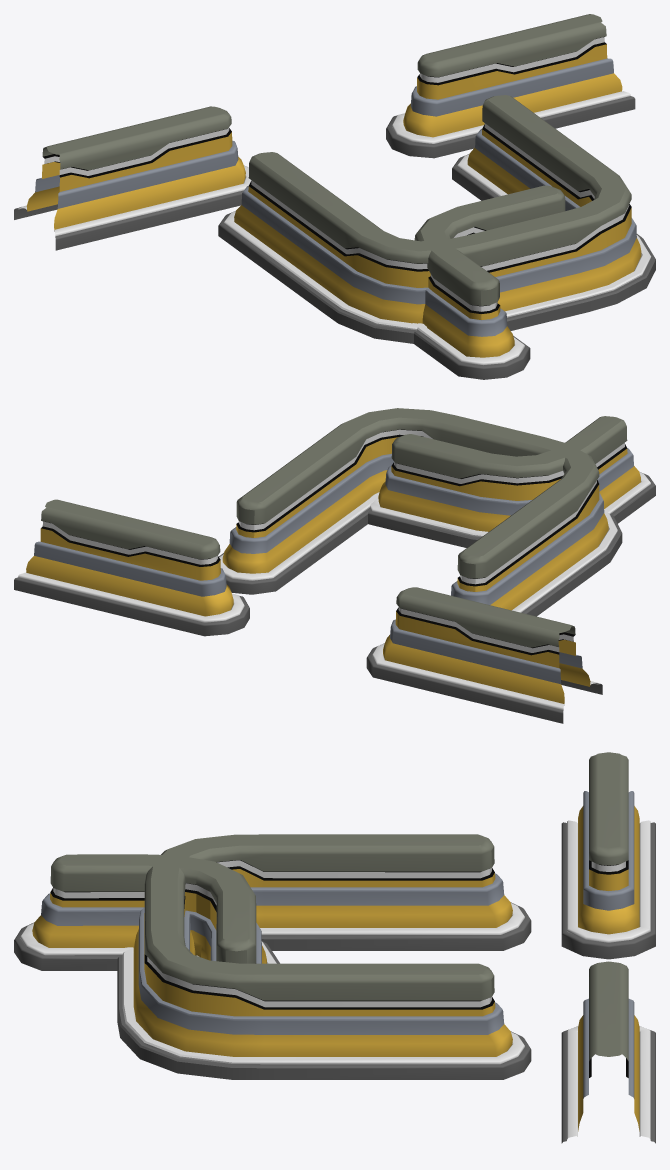
File: Level2_Small_walls.fbx
The picture shows the model from 3 angles, top to bottom: view 1: azimuth 30°, elevation 25°; view 2: azimuth 150°, elevation 25°; view 3: azimuth 270°, elevation 25°; orthographic projection. The views are drawn at different scales.
Visible parts, largest first — view 1: Small_wall_L1, Small_wallv2_, Small_wallv2_1, Small_wall_L; view 2: Small_wall_L1, Small_wallv2_1, Small_wallv2_, Small_wall_L; view 3: Small_wall_L1, Small_wall_L, Small_wallv2_, Small_wallv2_1.
Part boxes in pixels (bbox=[...]): Small_wall_L1: bbox=[218, 95, 655, 343]; Small_wallv2_: bbox=[14, 106, 251, 250]; Small_wallv2_1: bbox=[386, 14, 635, 158]; Small_wall_L: bbox=[413, 185, 565, 379]; Small_wall_L1: bbox=[218, 408, 622, 616]; Small_wallv2_1: bbox=[14, 499, 249, 636]; Small_wallv2_: bbox=[366, 587, 602, 723]; Small_wall_L: bbox=[368, 416, 655, 547]; Small_wall_L1: bbox=[117, 834, 531, 1079]; Small_wall_L: bbox=[14, 854, 279, 970]; Small_wallv2_: bbox=[561, 752, 655, 959]; Small_wallv2_1: bbox=[561, 961, 655, 1143].
Size of the model in its own units: 276 by 37.08 by 234.
